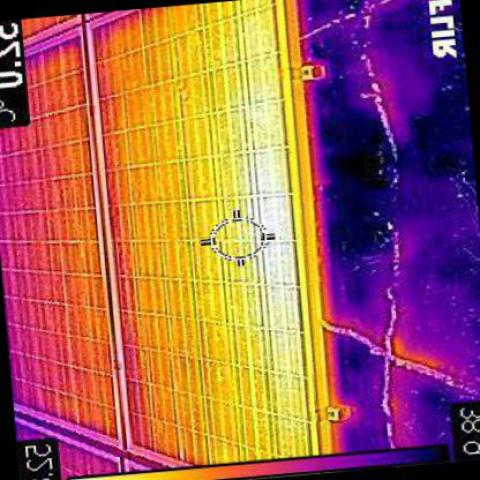fault: (256, 96, 298, 374)
